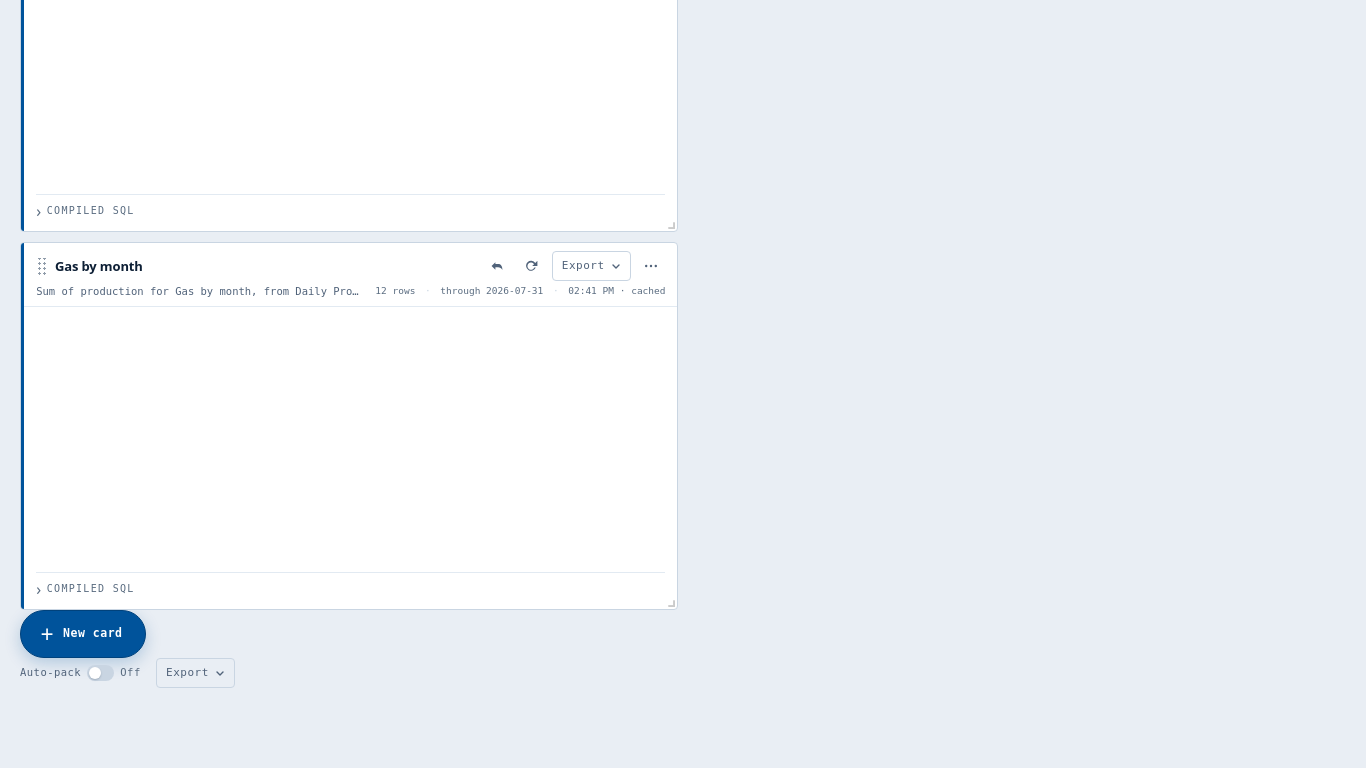
Test: Board visual-first interactions › shows named dashboard snapshot failures without starting a download
This screenshot has width=1366, height=768.
(page scrolled)
Click the button with aria-label "Export Operations". click: (196, 673)
box: [156,658,235,688]
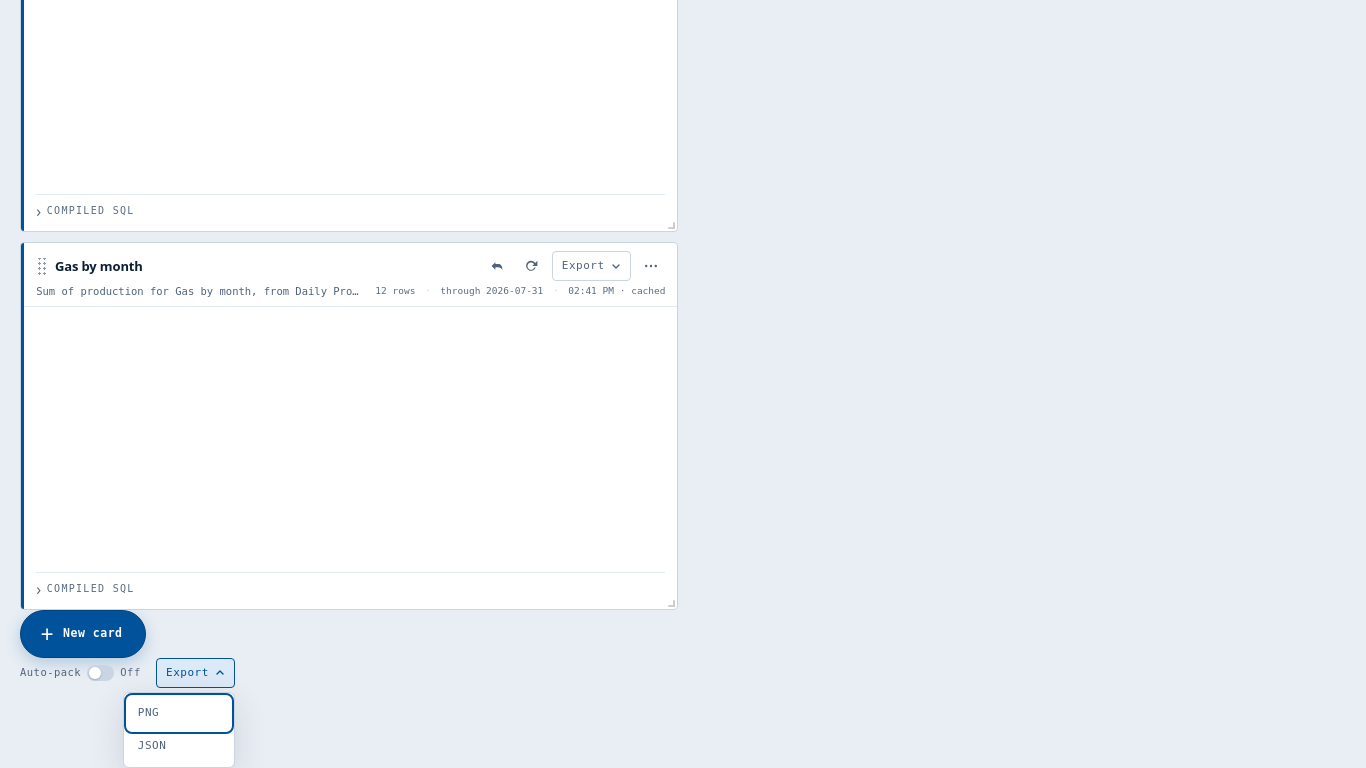
Click the menu item "PNG". click: (179, 713)
box: [128,697,230,730]
(page scrolled)
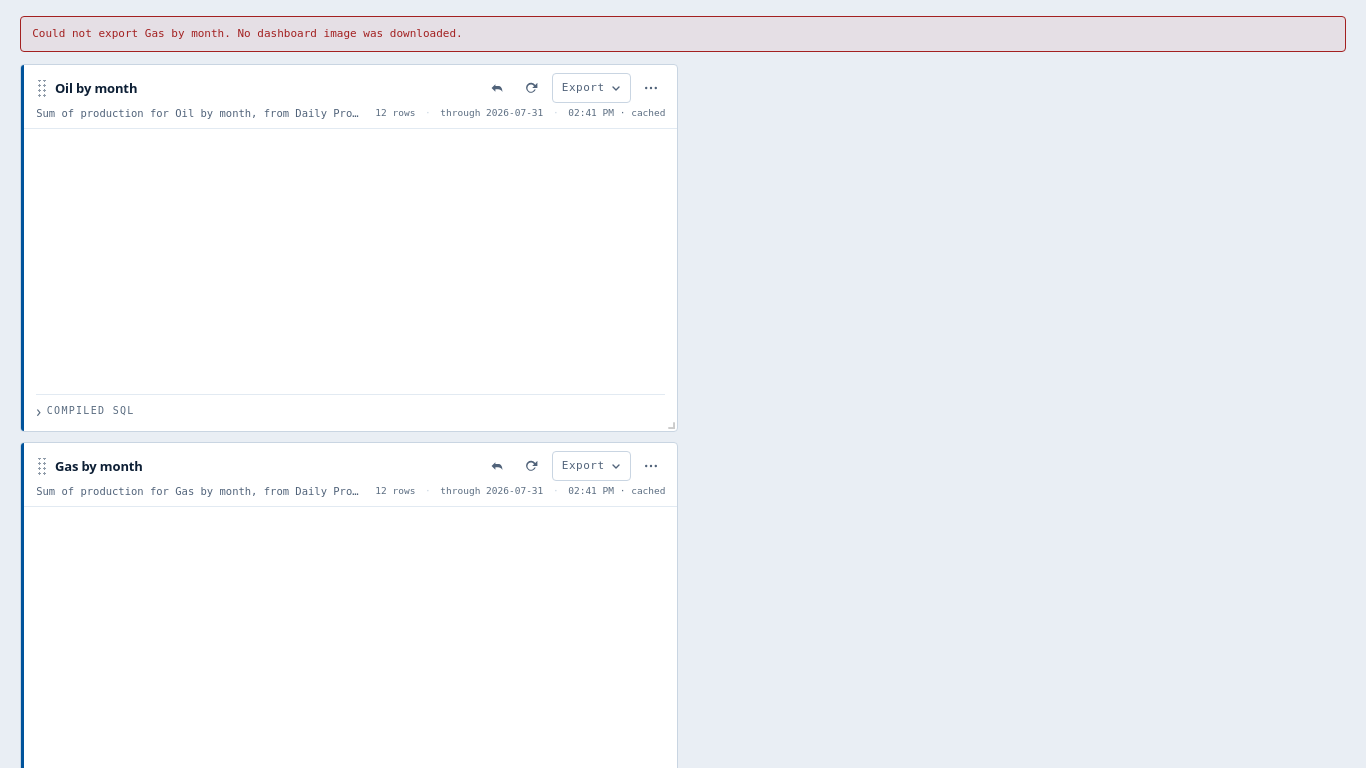
Result: the text "Could not export Gas by month. No dashboard image was downloaded." is shown at [20,16,1346,52]
